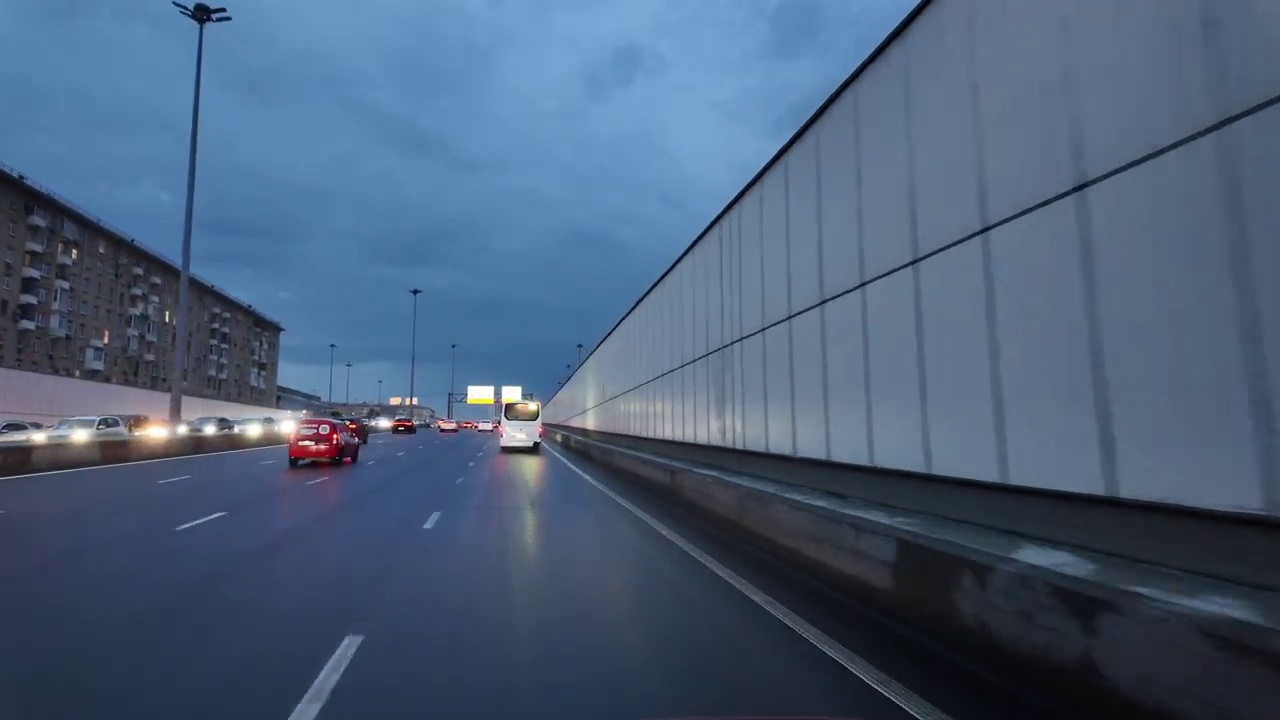apagada: (173, 0, 231, 29), (404, 282, 427, 302)
